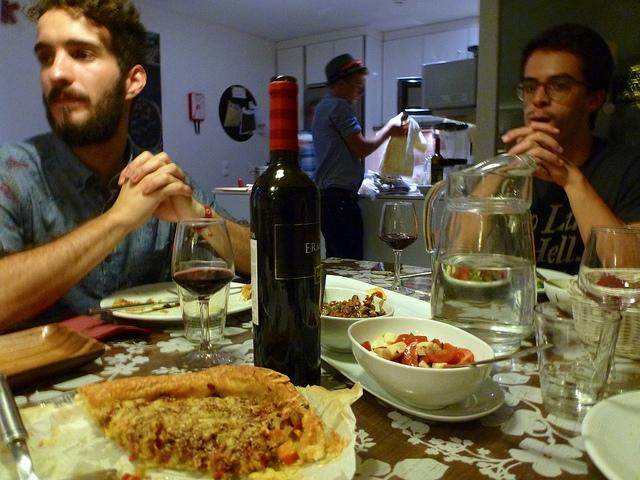tomato: (423, 346, 458, 362), (446, 347, 474, 365), (404, 342, 420, 366), (406, 336, 427, 346), (456, 267, 470, 280), (359, 340, 372, 352)
